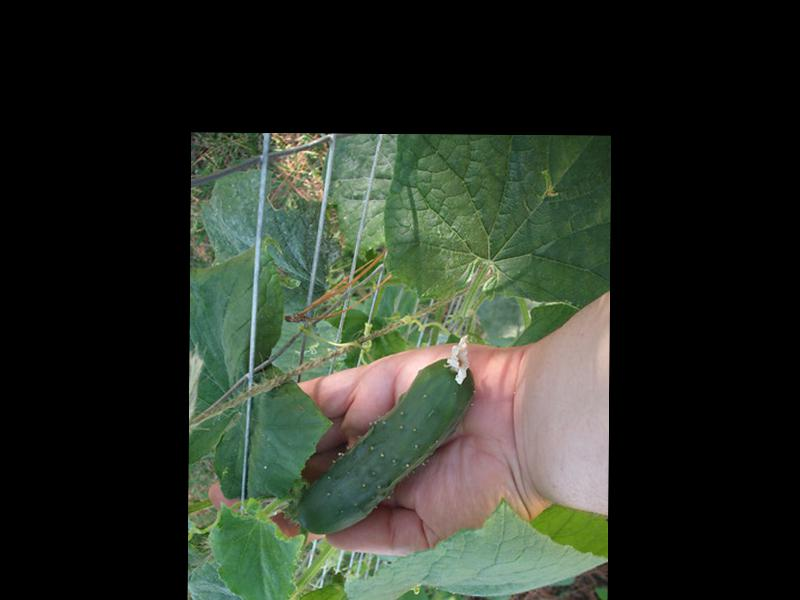Cucumber: (297, 332, 474, 534)
